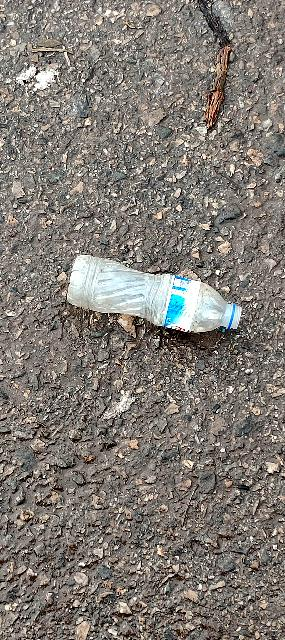bottle: (56, 243, 263, 351)
